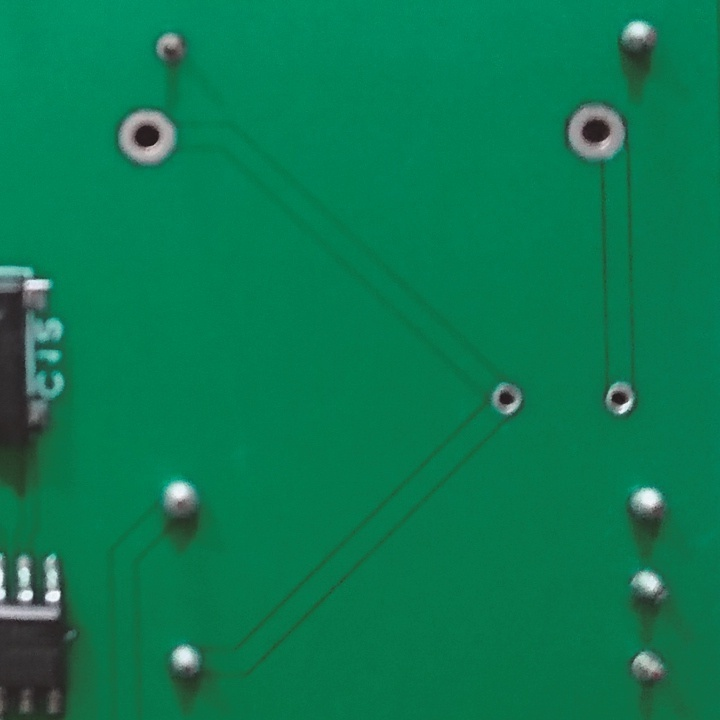F: (564, 98, 628, 165), (115, 106, 178, 171), (630, 646, 671, 695), (487, 377, 526, 418), (606, 378, 639, 418), (155, 28, 187, 65)
